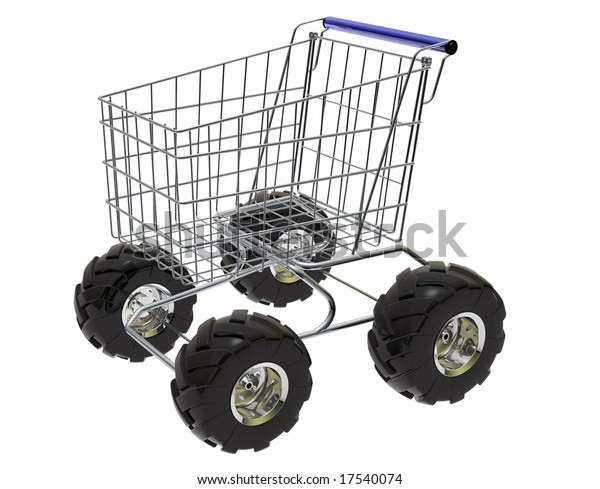shopping_cart: (79, 16, 530, 452)
